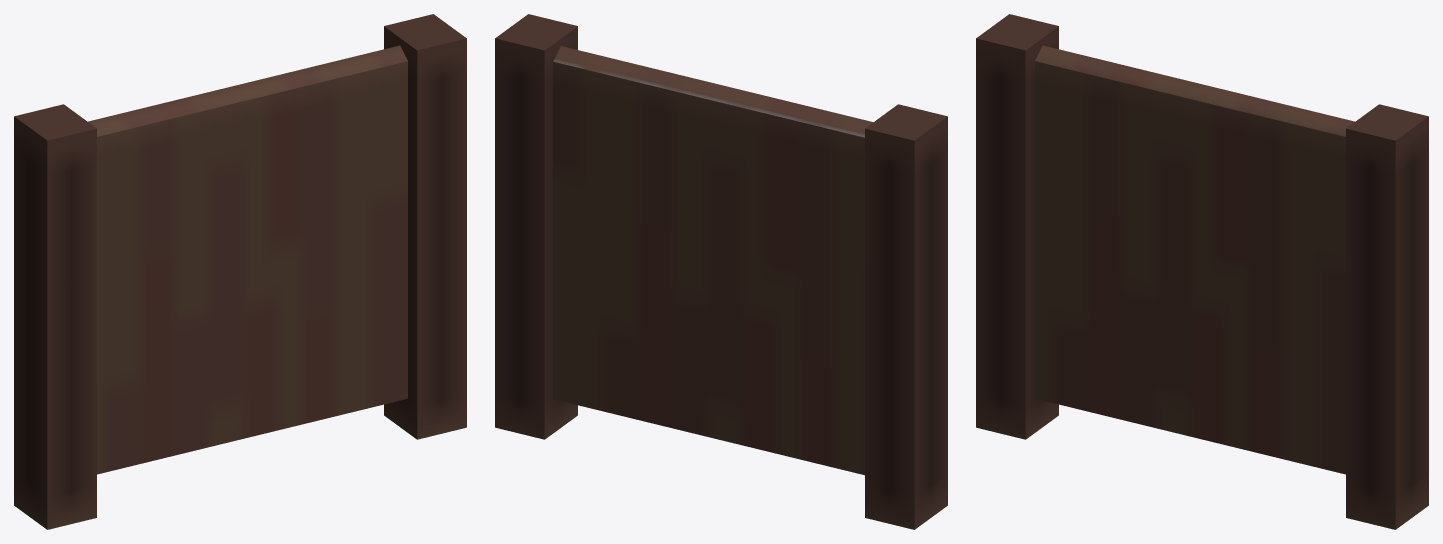
Rendered from fence_straight_v1.fbx.
The picture shows the model from 3 angles, left to right: view 1: azimuth 30°, elevation 25°; view 2: azimuth 150°, elevation 25°; view 3: azimuth 330°, elevation 25°; orthographic projection.
Visible parts, largest first — view 1: fence_straight_v1; view 2: fence_straight_v1; view 3: fence_straight_v1.
Boxes of the visible parts, x1,y1,x2,y2 form: fence_straight_v1: (14,14,466,529); fence_straight_v1: (495,14,947,529); fence_straight_v1: (976,14,1428,529).
Size of the model in its own units: 231 by 205 by 31.82.
